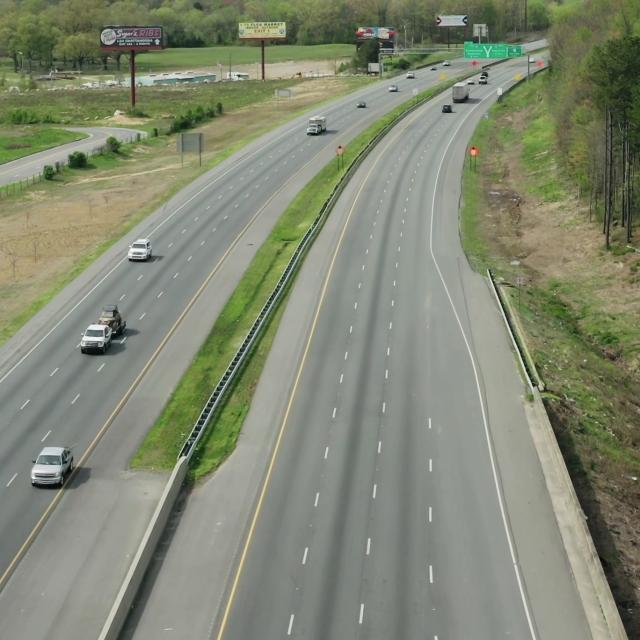Car: (77, 301, 126, 357), (32, 443, 76, 492), (130, 238, 153, 262), (306, 114, 327, 136)
